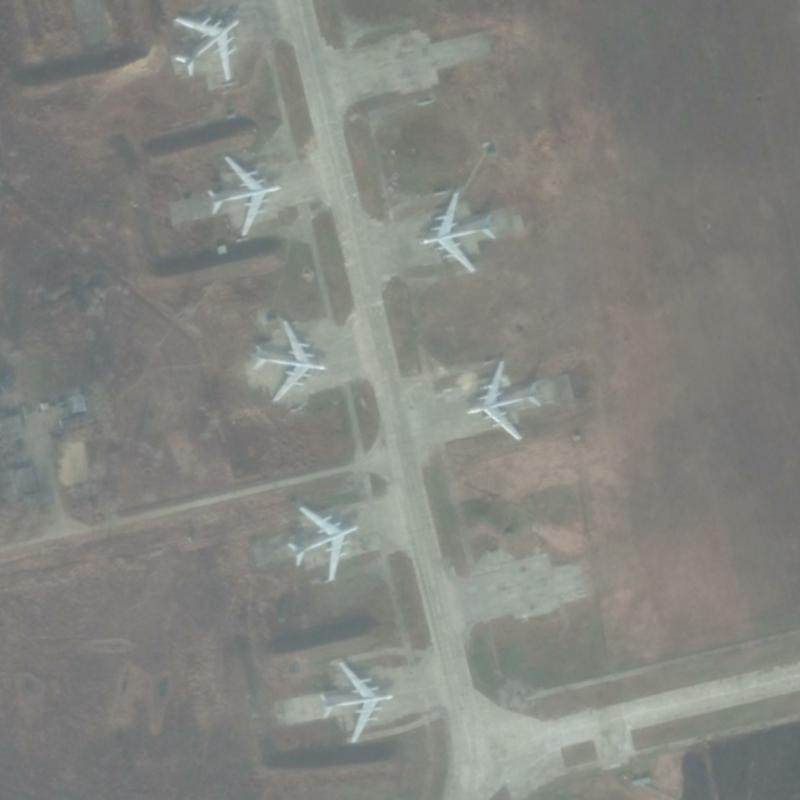A17: (417, 189, 497, 272), (463, 357, 542, 441), (316, 659, 394, 744), (250, 318, 327, 403), (205, 153, 282, 237), (285, 504, 359, 581), (171, 13, 239, 82)
